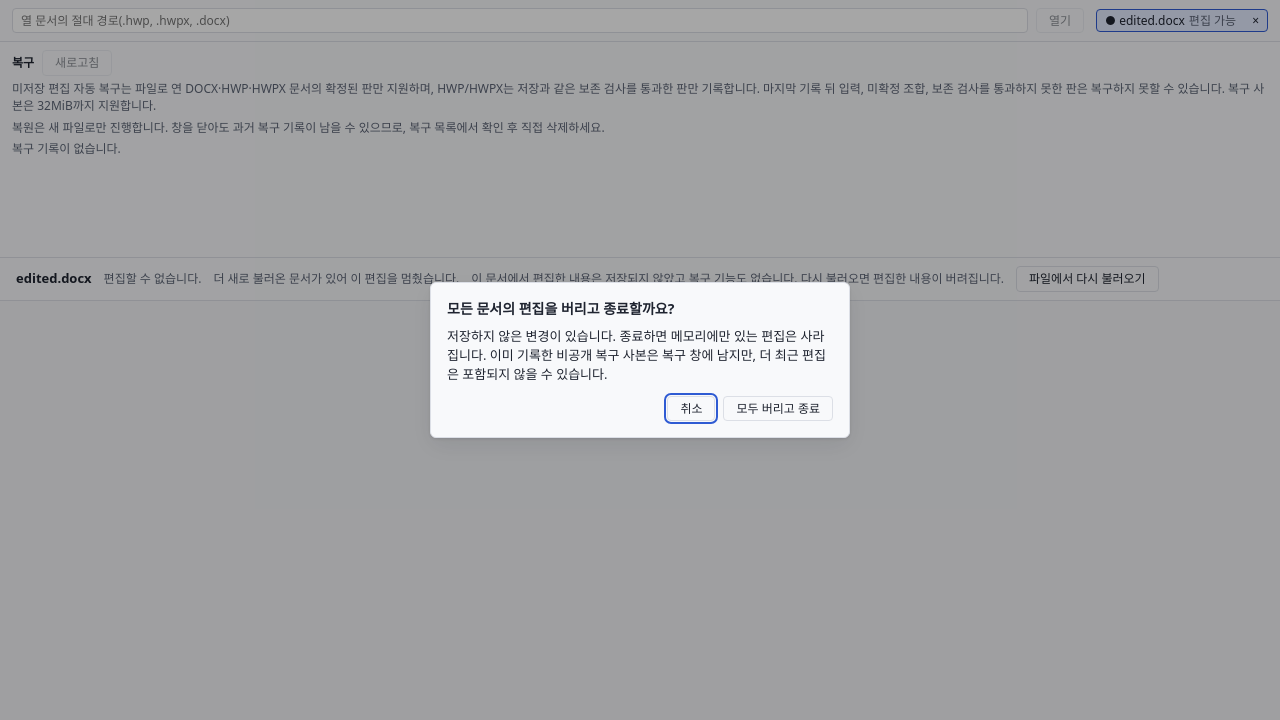
Test: window close while the recovery destination chooser is pending › B: cancelling the close prompt keeps restore usable; the chosen destination is then restored once
Click the button with test id "discard-cancel": point(691, 408) top-left (667, 396), bottom-right (716, 421)
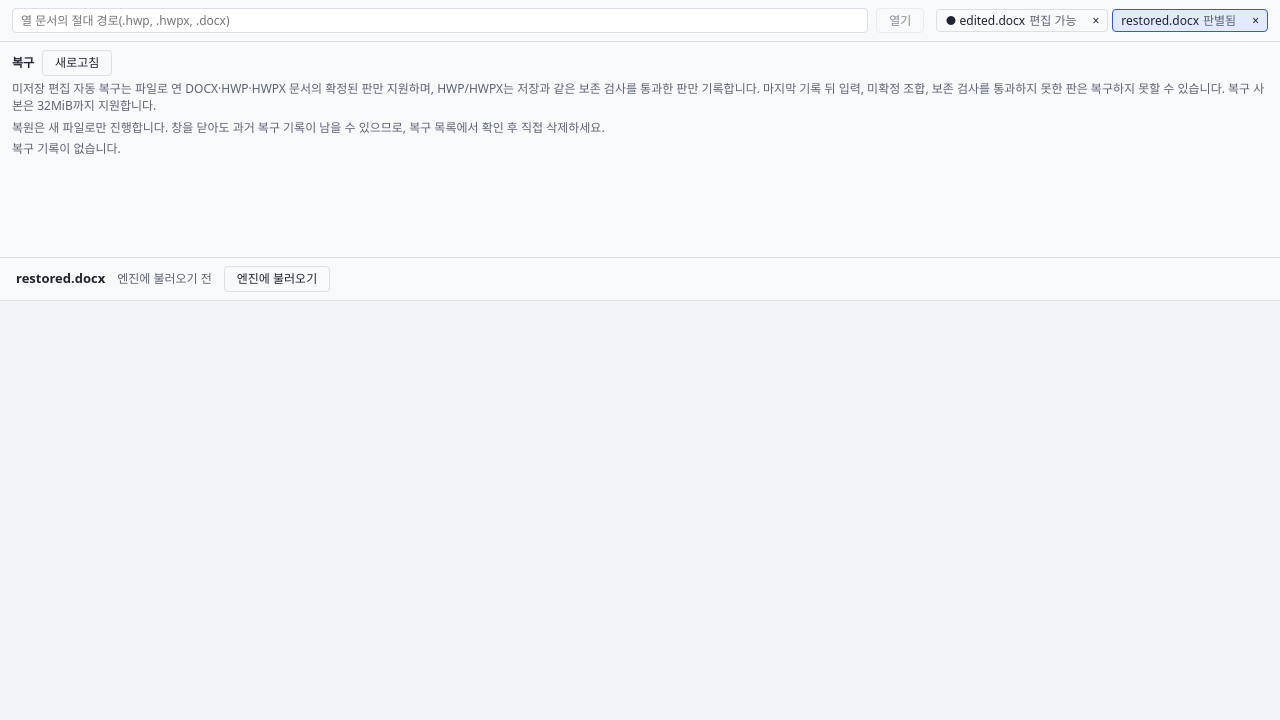
expect the dialog is gone: met
